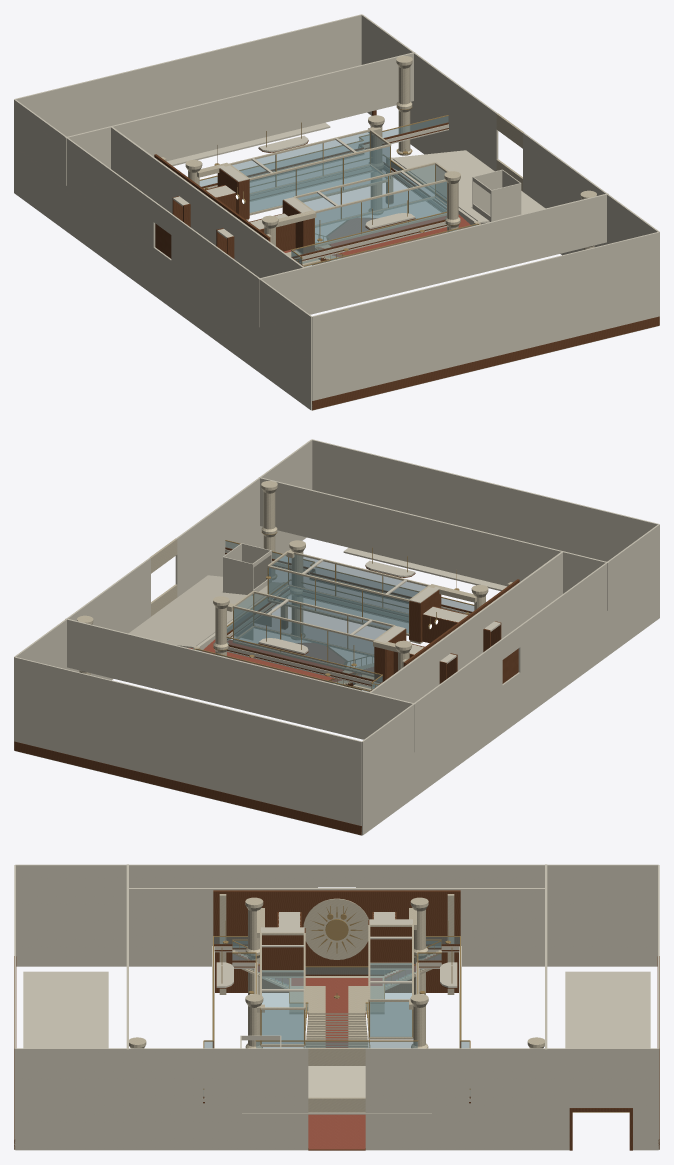
Rendered from ArrivalsHallExit.glb.
The picture shows the model from 3 angles, top to bottom: view 1: azimuth 30°, elevation 25°; view 2: azimuth 150°, elevation 25°; view 3: azimuth 270°, elevation 25°; orthographic projection. The views are drawn at different scales.
Parts seen in each view (by area): view 1: ARR_OuterEnd_-398.15, ARR_OuterEnd_-465.85, ARR_OpaqueServiceScreen_1, ARR_WestLowerOpaque, ARR_OpaqueServiceScreen_0, ARR_EastEnclosure_-465.85, ARR_WestServiceEnclosure_-430, ARR_WestServiceEnclosure_-465.85, ARR_EastEnclosure_-429, ARR_ExhibitGlassSide_0.002, ARR_ExhibitGlassSide_0, ARR_ExhibitGlassSide_1.002 (+23 smaller); view 2: ARR_OuterEnd_-465.85, ARR_OuterEnd_-398.15, ARR_OpaqueServiceScreen_0, ARR_WestLowerOpaque, ARR_OpaqueServiceScreen_1, ARR_EastEnclosure_-429, ARR_WestServiceEnclosure_-465.85, ARR_WestServiceEnclosure_-430, ARR_EastEnclosure_-465.85, ARR_ExhibitGlassSide_1, ARR_ExhibitGlassSide_0, ARR_ExhibitGlassSide_0.002 (+23 smaller); view 3: ARR_EastEnclosure_-429, ARR_EastEnclosure_-465.85, ARR_WestLowerOpaque, ARR_WestServiceEnclosure_-465.85, ARR_WestServiceEnclosure_-430, ARR_HospitalityCanopy_1_0, ARR_HospitalityCanopy_2_0, ARR_OpaqueServiceScreen_2_solid_-438.2, ARR_OpaqueServiceScreen_2_end, ARR_ExhibitGlassBelly_0, ARR_StairFocalWall_end, ARR_StairFocalWall_solid_-438.2 (+31 smaller).
Boxes of the visible parts, x1=… form: ARR_OuterEnd_-398.15: x1=312, y1=232, x2=659, y2=410; ARR_OuterEnd_-465.85: x1=14, y1=14, x2=361, y2=136; ARR_OpaqueServiceScreen_1: x1=258, y1=193, x2=608, y2=327; ARR_WestLowerOpaque: x1=14, y1=145, x2=311, y2=410; ARR_OpaqueServiceScreen_0: x1=65, y1=52, x2=415, y2=185; ARR_EastEnclosure_-465.85: x1=361, y1=14, x2=498, y2=171; ARR_WestServiceEnclosure_-430: x1=171, y1=214, x2=311, y2=362; ARR_WestServiceEnclosure_-465.85: x1=14, y1=99, x2=155, y2=247; ARR_EastEnclosure_-429: x1=523, y1=133, x2=659, y2=324; ARR_ExhibitGlassSide_0.002: x1=249, y1=146, x2=389, y2=212; ARR_ExhibitGlassSide_0: x1=232, y1=132, x2=369, y2=192; ARR_ExhibitGlassSide_1.002: x1=315, y1=182, x2=446, y2=243; ARR_OuterEnd_-465.85: x1=14, y1=657, x2=361, y2=835; ARR_OuterEnd_-398.15: x1=312, y1=439, x2=659, y2=561; ARR_OpaqueServiceScreen_0: x1=65, y1=618, x2=415, y2=752; ARR_WestLowerOpaque: x1=362, y1=570, x2=659, y2=835; ARR_OpaqueServiceScreen_1: x1=258, y1=477, x2=608, y2=610; ARR_EastEnclosure_-429: x1=175, y1=439, x2=312, y2=597; ARR_WestServiceEnclosure_-465.85: x1=362, y1=639, x2=502, y2=787; ARR_WestServiceEnclosure_-430: x1=518, y1=524, x2=659, y2=672; ARR_EastEnclosure_-465.85: x1=14, y1=558, x2=150, y2=749; ARR_ExhibitGlassSide_1: x1=268, y1=568, x2=408, y2=633; ARR_ExhibitGlassSide_0: x1=234, y1=608, x2=374, y2=674; ARR_ExhibitGlassSide_0.002: x1=254, y1=593, x2=391, y2=654; ARR_EastEnclosure_-429: x1=15, y1=1048, x2=308, y2=1150; ARR_EastEnclosure_-465.85: x1=365, y1=1048, x2=658, y2=1150; ARR_WestLowerOpaque: x1=16, y1=915, x2=657, y2=966; ARR_WestServiceEnclosure_-465.85: x1=356, y1=864, x2=658, y2=914; ARR_WestServiceEnclosure_-430: x1=15, y1=864, x2=317, y2=914; ARR_HospitalityCanopy_1_0: x1=565, y1=971, x2=650, y2=1048; ARR_HospitalityCanopy_2_0: x1=23, y1=971, x2=108, y2=1048; ARR_OpaqueServiceScreen_2_solid_-438.2: x1=396, y1=888, x2=545, y2=940; ARR_OpaqueServiceScreen_2_end: x1=128, y1=888, x2=277, y2=940; ARR_ExhibitGlassBelly_0: x1=370, y1=963, x2=411, y2=1036; ARR_StairFocalWall_end: x1=213, y1=890, x2=277, y2=992; ARR_StairFocalWall_solid_-438.2: x1=396, y1=890, x2=460, y2=992.
Size of the model in its own units: 46.03 by 12 by 67.95.
7 materials, 5 textured.
